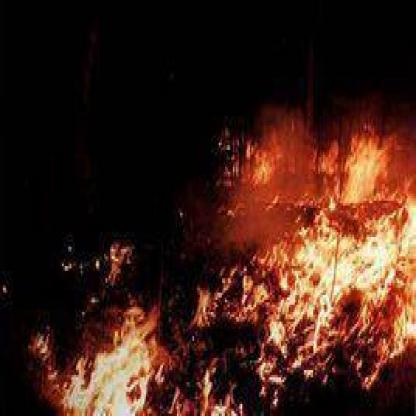fire: (212, 102, 413, 406), (16, 256, 209, 410)
